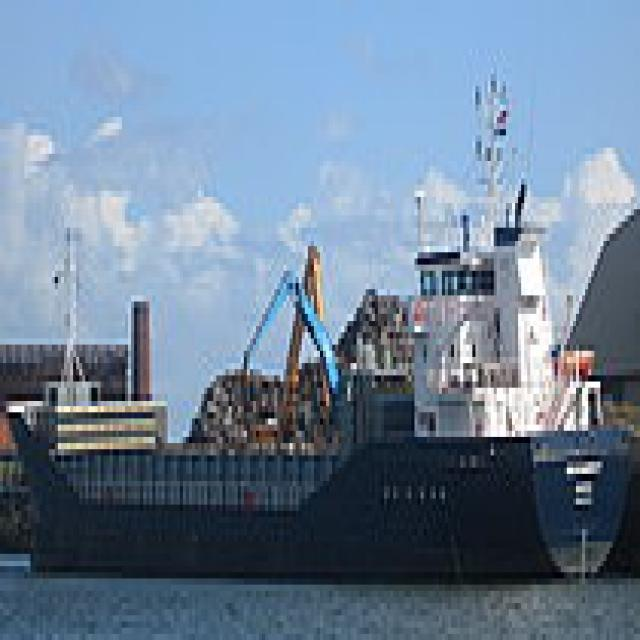Ship: (1, 180, 640, 605)
